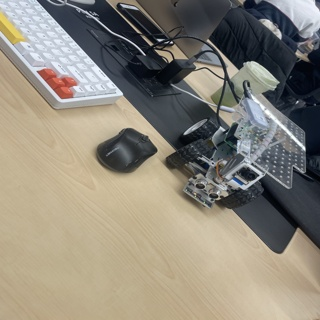vehicle: (165, 92, 307, 213)
